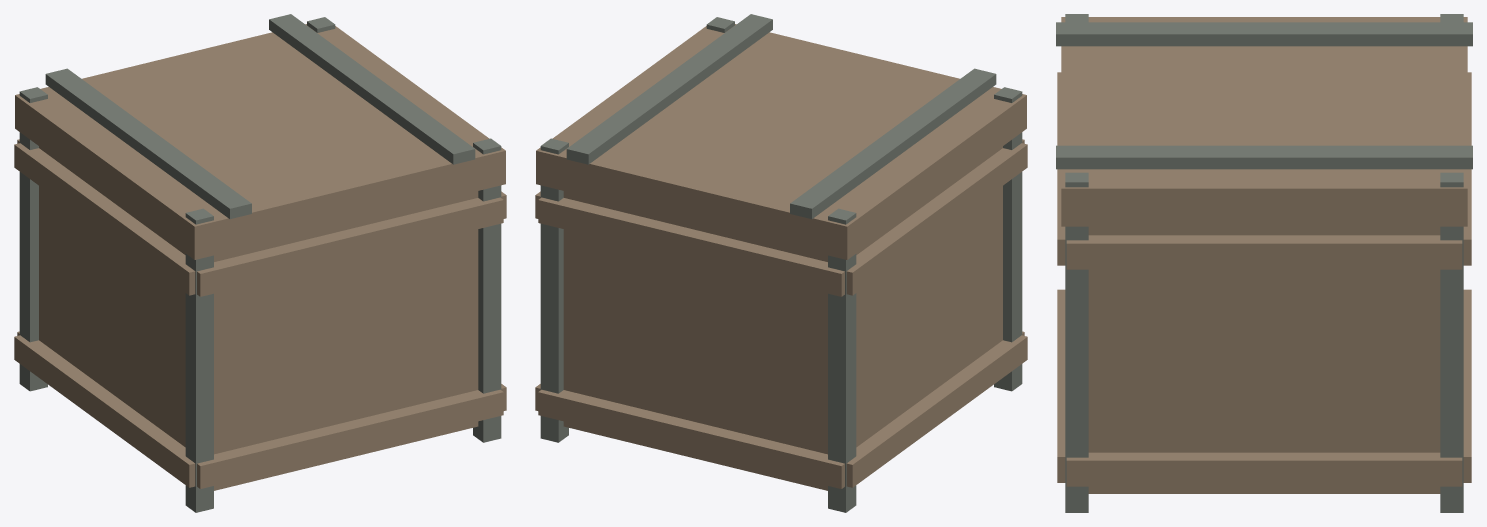
File: test-crate.glb
3 views of the same model, side by side, from view 1: azimuth 30°, elevation 25°; view 2: azimuth 150°, elevation 25°; view 3: azimuth 270°, elevation 25° (orthographic). The views are drawn at different scales.
Size of the model in its own units: 0.795 by 0.7175 by 0.8.
